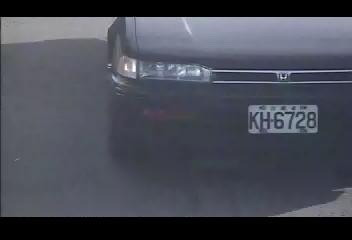plate: (245, 103, 319, 135)
